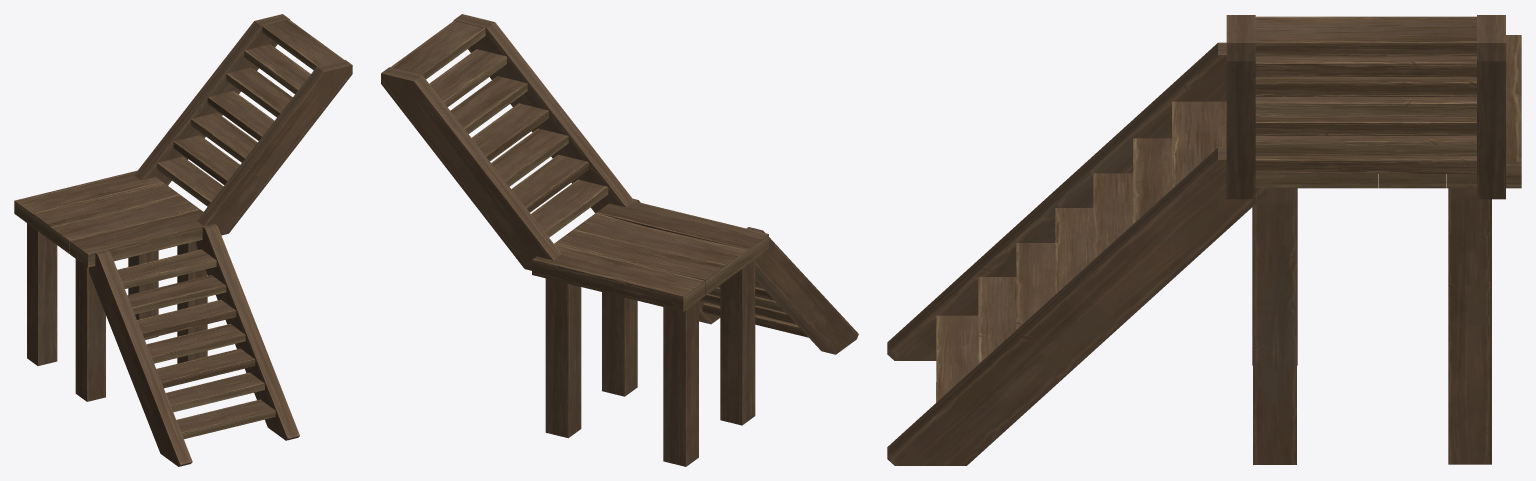
Rendered from SM_Stylized_Wood_Stairs.glb.
3 renders of one model, left to right at view 1: azimuth 30°, elevation 25°; view 2: azimuth 150°, elevation 25°; view 3: azimuth 270°, elevation 25°, orthographic. The views are drawn at different scales.
Parts seen in each view (by area): view 1: SM_Stylized_Wood_Stairs; view 2: SM_Stylized_Wood_Stairs; view 3: SM_Stylized_Wood_Stairs.
Part boxes in pixels (x1,y1,x2,y2): SM_Stylized_Wood_Stairs: [14, 14, 352, 466]; SM_Stylized_Wood_Stairs: [381, 14, 858, 466]; SM_Stylized_Wood_Stairs: [887, 15, 1521, 465].
Size of the model in its own units: 3.05 by 3.07 by 3.17.
1 material, 1 textured.
